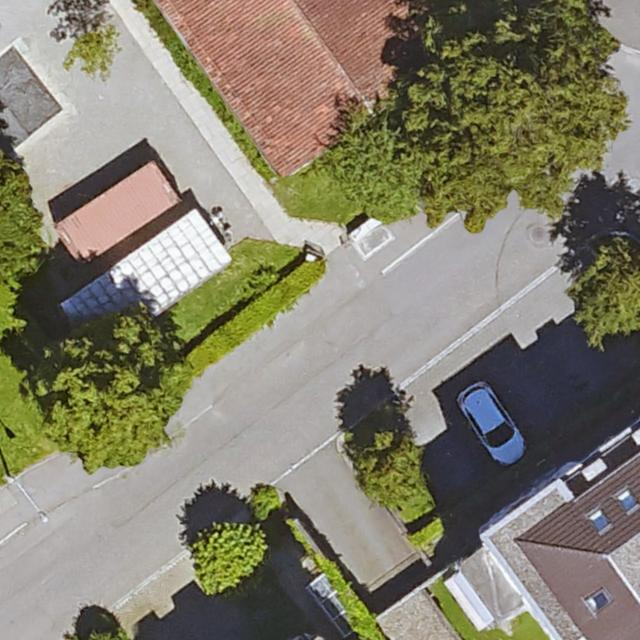tree: (421, 8, 613, 208), (35, 327, 189, 469), (398, 122, 505, 222), (330, 123, 416, 219), (579, 248, 640, 331), (198, 528, 265, 599), (0, 151, 34, 289), (358, 426, 419, 494), (69, 29, 118, 72), (81, 621, 128, 640)
